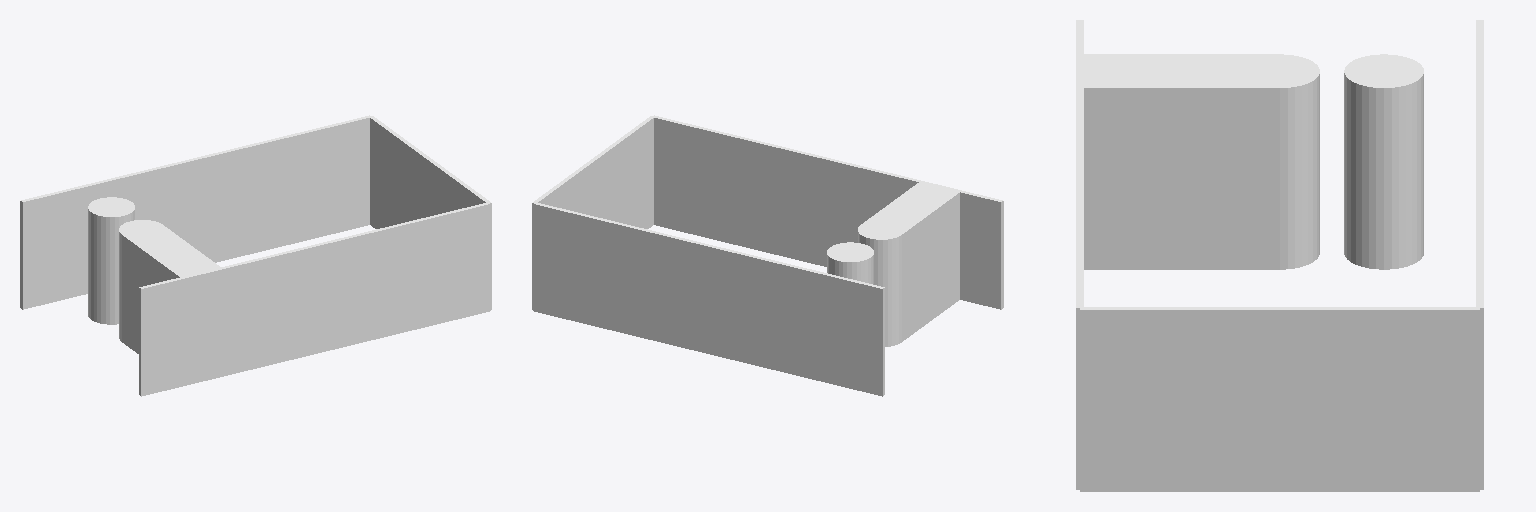
URDF robot description (convex_obsttacles_environment):
<?xml version='1.0' encoding='utf-8'?>
<robot name="convex_obsttacles_environment">
  <link name="base_link" />
  <link name="roof">
    <inertial>
      <origin xyz="5.75 0.0 2" rpy="0 0 0" />
      <mass value="999999999999999999999999999.0" />
      <inertia ixx="0.01" ixy="0" ixz="0" iyy="0.01" iyz="0" izz="0.01" />
    </inertial>
    <collision>
      <origin xyz="5.75 0.0 2" rpy="0 0 0" />
      <geometry>
        <box size="8.5 5.0 0.1" />
      </geometry>
    </collision>
  </link>
  <joint name="joint_1_roof" type="fixed">
    <parent link="base_link" />
    <child link="roof" />
    <origin xyz="0 0 0" rpy="0 0 0" />
  </joint>
  <link name="left_wall">
    <inertial>
      <origin xyz="5.75 2.5 0.75" rpy="0 0 0" />
      <mass value="999999999999999999999999999.0" />
      <inertia ixx="0.01" ixy="0" ixz="0" iyy="0.01" iyz="0" izz="0.01" />
    </inertial>
    <visual>
      <origin xyz="5.75 2.5 0.75" rpy="0 0 0" />
      <geometry>
        <box size="8.5 0.1 2.5" />
      </geometry>
      <material name="left_wall_color">
        <color rgba="1 1 1 1" />
      </material>
    </visual>
    <collision>
      <origin xyz="5.75 2.5 0.75" rpy="0 0 0" />
      <geometry>
        <box size="8.5 0.1 2.5" />
      </geometry>
    </collision>
  </link>
  <joint name="joint_2_left_wall" type="fixed">
    <parent link="base_link" />
    <child link="left_wall" />
    <origin xyz="0 0 0" rpy="0 0 0" />
  </joint>
  <link name="right_wall">
    <inertial>
      <origin xyz="5.75 -2.5 0.75" rpy="0 0 0" />
      <mass value="999999999999999999999999999.0" />
      <inertia ixx="0.01" ixy="0" ixz="0" iyy="0.01" iyz="0" izz="0.01" />
    </inertial>
    <visual>
      <origin xyz="5.75 -2.5 0.75" rpy="0 0 0" />
      <geometry>
        <box size="8.5 0.1 2.5" />
      </geometry>
      <material name="right_wall_color">
        <color rgba="1 1 1 1" />
      </material>
    </visual>
    <collision>
      <origin xyz="5.75 -2.5 0.75" rpy="0 0 0" />
      <geometry>
        <box size="8.5 0.1 2.5" />
      </geometry>
    </collision>
  </link>
  <joint name="joint_3_right_wall" type="fixed">
    <parent link="base_link" />
    <child link="right_wall" />
    <origin xyz="0 0 0" rpy="0 0 0" />
  </joint>
  <link name="front_wall">
    <inertial>
      <origin xyz="10 0.0 0.75" rpy="0 0 0" />
      <mass value="999999999999999999999999999.0" />
      <inertia ixx="0.01" ixy="0" ixz="0" iyy="0.01" iyz="0" izz="0.01" />
    </inertial>
    <visual>
      <origin xyz="10 0.0 0.75" rpy="0 0 0" />
      <geometry>
        <box size="0.1 5 2.5" />
      </geometry>
      <material name="front_wall_color">
        <color rgba="1 1 1 1" />
      </material>
    </visual>
    <collision>
      <origin xyz="10 0.0 0.75" rpy="0 0 0" />
      <geometry>
        <box size="0.1 5 2.5" />
      </geometry>
    </collision>
  </link>
  <joint name="joint_4_front_wall" type="fixed">
    <parent link="base_link" />
    <child link="front_wall" />
    <origin xyz="0 0 0" rpy="0 0 0" />
  </joint>
  <link name="obstacle1">
    <inertial>
      <origin xyz="3.0 1.3 0.75" rpy="0 0 0" />
      <mass value="999999999999999999999999999.0" />
      <inertia ixx="0.01" ixy="0" ixz="0" iyy="0.01" iyz="0" izz="0.01" />
    </inertial>
    <visual>
      <origin xyz="3.0 1.3 0.75" rpy="0 0 0" />
      <geometry>
        <cylinder radius="0.5" length="2.5" />
      </geometry>
      <material name="obstacle1_color">
        <color rgba="1 1 1 1" />
      </material>
    </visual>
    <collision>
      <origin xyz="3.0 1.3 0.75" rpy="0 0 0" />
      <geometry>
        <cylinder radius="0.5" length="2.5" />
      </geometry>
    </collision>
  </link>
  <joint name="joint_5_obstacle1" type="fixed">
    <parent link="base_link" />
    <child link="obstacle1" />
    <origin xyz="0 0 0" rpy="0 0 0" />
  </joint>
  <link name="obstacle2">
    <inertial>
      <origin xyz="3.0 0.0 0.75" rpy="0 0 0" />
      <mass value="999999999999999999999999999.0" />
      <inertia ixx="0.01" ixy="0" ixz="0" iyy="0.01" iyz="0" izz="0.01" />
    </inertial>
    <visual>
      <origin xyz="3.0 0.0 0.75" rpy="0 0 0" />
      <geometry>
        <cylinder radius="0.5" length="2.5" />
      </geometry>
      <material name="obstacle2_color">
        <color rgba="1 1 1 1" />
      </material>
    </visual>
    <collision>
      <origin xyz="3.0 0.0 0.75" rpy="0 0 0" />
      <geometry>
        <cylinder radius="0.5" length="2.5" />
      </geometry>
    </collision>
  </link>
  <joint name="joint_6_obstacle2" type="fixed">
    <parent link="base_link" />
    <child link="obstacle2" />
    <origin xyz="0 0 0" rpy="0 0 0" />
  </joint>
  <link name="obsacle3">
    <inertial>
      <origin xyz="3.0 -1.25 0.75" rpy="0 0 0" />
      <mass value="999999999999999999999999999.0" />
      <inertia ixx="0.01" ixy="0" ixz="0" iyy="0.01" iyz="0" izz="0.01" />
    </inertial>
    <visual>
      <origin xyz="3.0 -1.25 0.75" rpy="0 0 0" />
      <geometry>
        <box size="1.0 2.5 2.5" />
      </geometry>
      <material name="obsacle3_color">
        <color rgba="1 1 1 1" />
      </material>
    </visual>
    <collision>
      <origin xyz="3.0 -1.25 0.75" rpy="0 0 0" />
      <geometry>
        <box size="1.0 2.5 2.5" />
      </geometry>
    </collision>
  </link>
  <joint name="joint_7_obsacle3" type="fixed">
    <parent link="base_link" />
    <child link="obsacle3" />
    <origin xyz="0 0 0" rpy="0 0 0" />
  </joint>
</robot>

--- What the picture shows (computed from the rendered views, not written in the file) ---
Views: 3 orthographic renders of the robot side by side, from view 1: azimuth 30°, elevation 25°; view 2: azimuth 150°, elevation 25°; view 3: azimuth 270°, elevation 25°.
Model convex_obsttacles_environment with 8 links and 7 joints (7 fixed), rooted at base_link, posed every joint at zero.
Visible links, largest first — view 1: right_wall, left_wall, front_wall, obsacle3, obstacle1, obstacle2; view 2: left_wall, right_wall, obsacle3, front_wall, obstacle2, obstacle1; view 3: front_wall, obsacle3, obstacle1, obstacle2, left_wall, right_wall.
Link boxes in pixels (<box>): right_wall: <box>139,202,490,396</box>; left_wall: <box>20,115,369,309</box>; front_wall: <box>370,116,491,309</box>; obsacle3: <box>122,225,220,353</box>; obstacle1: <box>88,197,134,324</box>; obstacle2: <box>119,220,165,341</box>; left_wall: <box>533,202,884,396</box>; right_wall: <box>654,115,1003,309</box>; obsacle3: <box>863,181,960,341</box>; front_wall: <box>532,116,653,309</box>; obstacle2: <box>858,220,904,346</box>; obstacle1: <box>827,242,873,284</box>; front_wall: <box>1080,307,1479,491</box>; obsacle3: <box>1080,54,1279,269</box>; obstacle1: <box>1344,54,1423,269</box>; obstacle2: <box>1240,54,1319,269</box>; left_wall: <box>1476,20,1483,489</box>; right_wall: <box>1076,20,1083,489</box>.
Size in the robot's own frame: 8.55 by 5.1 by 2.5 metres.
Geometry: primitives only (box / cylinder / sphere), no mesh files.
